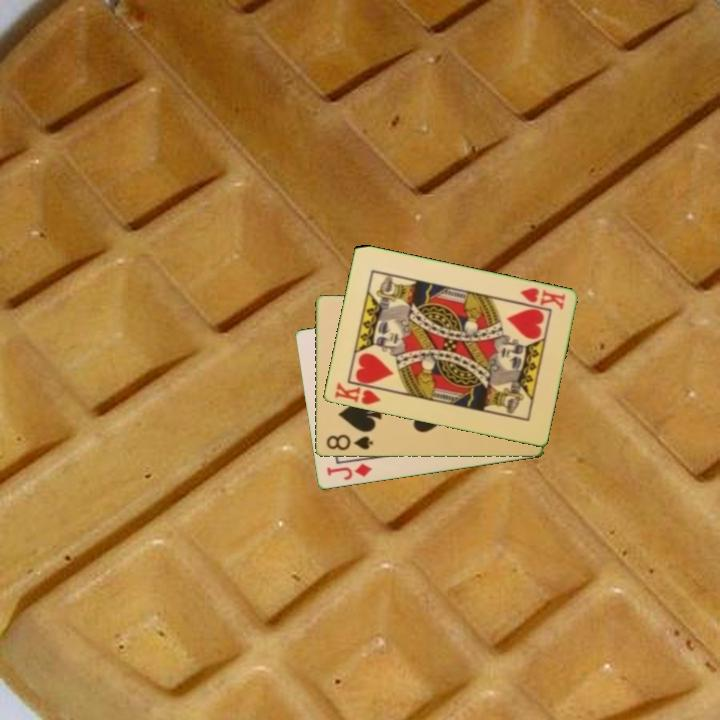8s: (323, 431, 375, 453)
Jd: (323, 460, 374, 483)
Kh: (331, 379, 388, 408), (516, 284, 568, 313)
